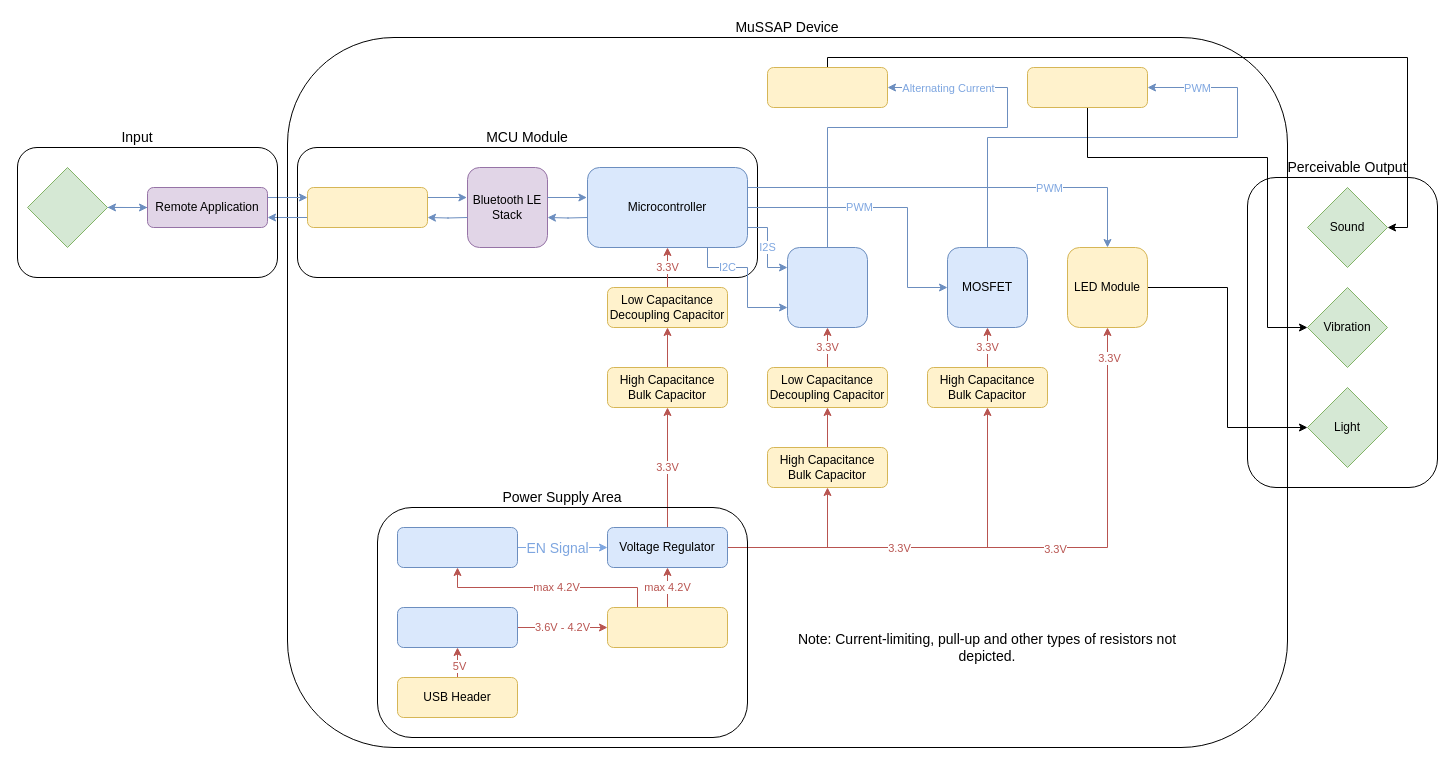
The diagram is 1455 pixels wide and 765 high, and some of its shapes have lost their labels. The centre of each missing label's shape, as x and y in pixels:
"Audio Chip" goes at pixel 827 287.
"Battery" goes at pixel 667 627.
"Battery Management System" goes at pixel 457 627.
"Radio Antenna" goes at pixel 367 207.
"Speaker" goes at pixel 827 87.
"Undervoltage Sensor" goes at pixel 457 547.
"User" goes at pixel 67 207.
"Vibration Motor" goes at pixel 1087 87.
